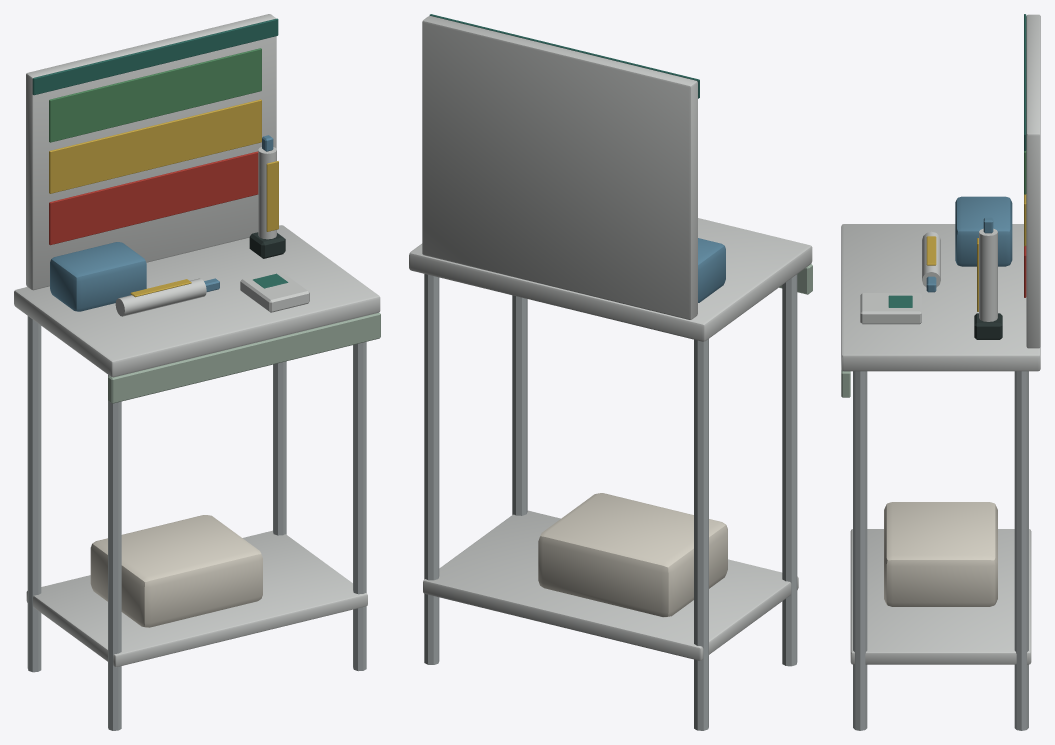
File: peak-flow-station.glb
The picture shows the model from 3 angles, left to right: view 1: azimuth 30°, elevation 25°; view 2: azimuth 150°, elevation 25°; view 3: azimuth 270°, elevation 25°; orthographic projection. The views are drawn at different scales.
Parts seen in each view (by area): view 1: peak-flow-station; view 2: peak-flow-station; view 3: peak-flow-station.
Boxes of the visible parts, x1=… form: peak-flow-station: x1=14, y1=14, x2=380, y2=730; peak-flow-station: x1=409, y1=14, x2=812, y2=730; peak-flow-station: x1=841, y1=14, x2=1040, y2=730.
Size of the model in its own units: 0.66 by 1.38 by 0.42.
